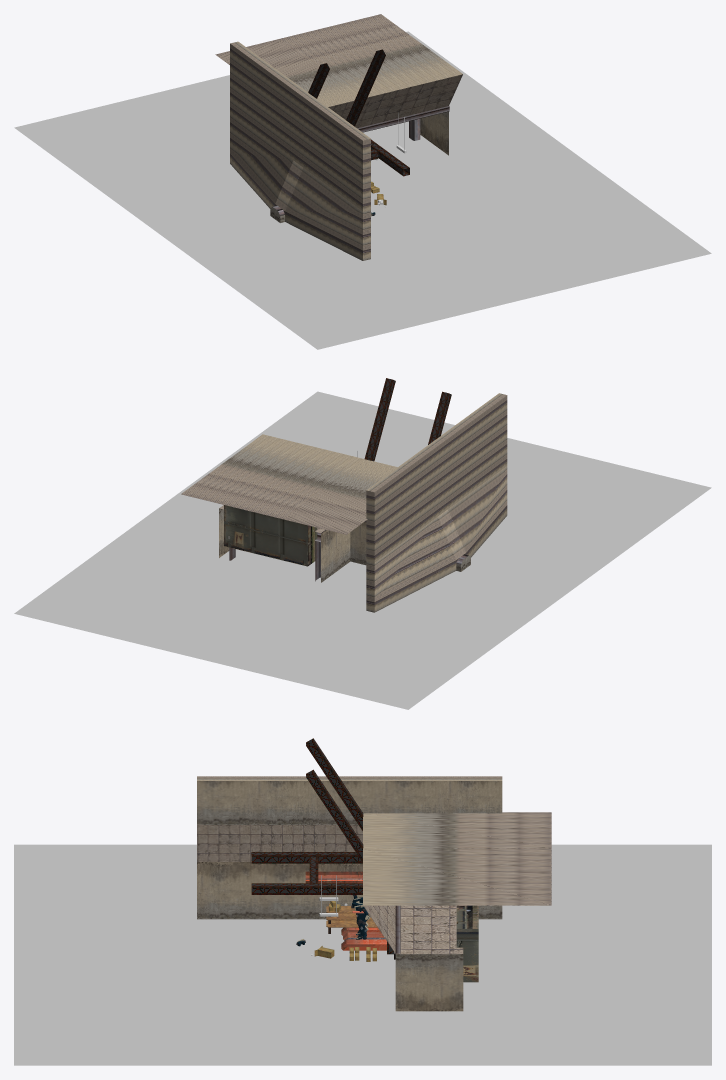
The model's file is RepairShop.fbx.
3 renders of one model, top to bottom at view 1: azimuth 30°, elevation 25°; view 2: azimuth 150°, elevation 25°; view 3: azimuth 270°, elevation 25°, orthographic. The views are drawn at different scales.
Parts seen in each view (by area): view 1: RepairShop; view 2: RepairShop, RepairDoor; view 3: RepairShop, RepairDoor, RepairMech.
Boxes of the visible parts, left/top/right/bottom form: RepairShop: left=14, top=14, right=711, bottom=349; RepairShop: left=14, top=378, right=711, bottom=709; RepairDoor: left=224, top=505, right=317, bottom=566; RepairShop: left=14, top=738, right=711, bottom=1065; RepairDoor: left=456, top=905, right=478, bottom=982; RepairMech: left=296, top=895, right=370, bottom=946.
Size of the model in its own units: 24 by 12.88 by 32.
